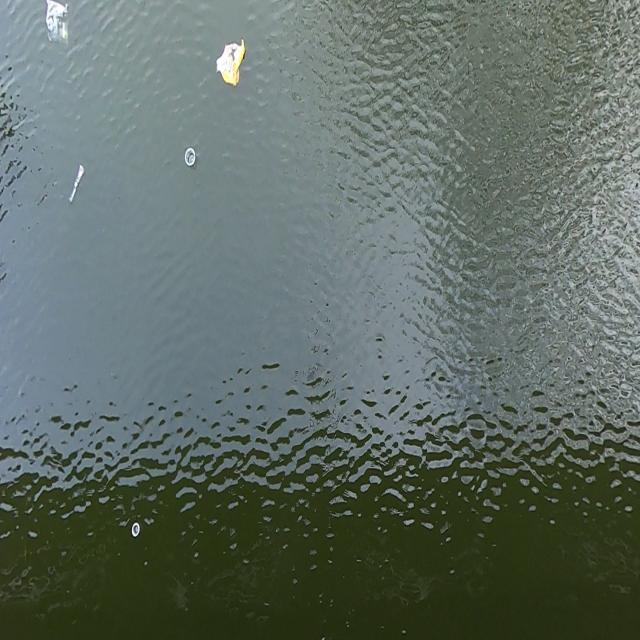Autre plastique: (216, 38, 245, 87), (128, 518, 142, 543), (184, 146, 195, 168)
Sac plastique: (46, 0, 67, 41)
